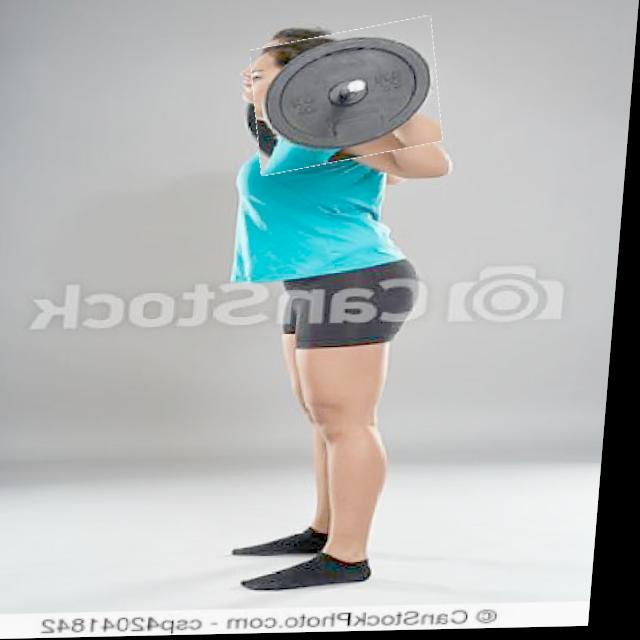barbell: (249, 26, 449, 172)
